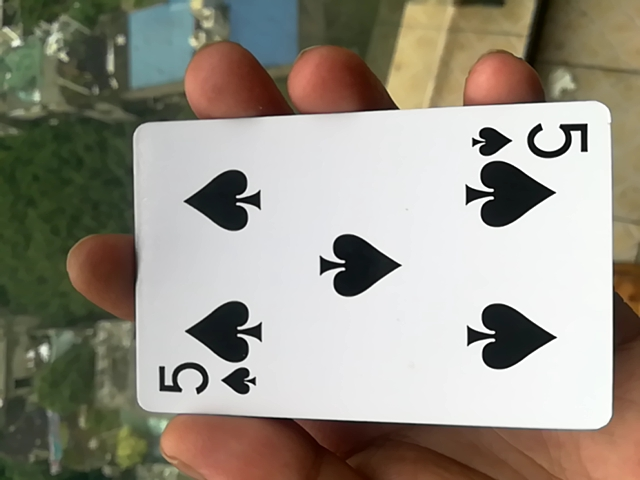ht 5: (113, 105, 617, 440)
